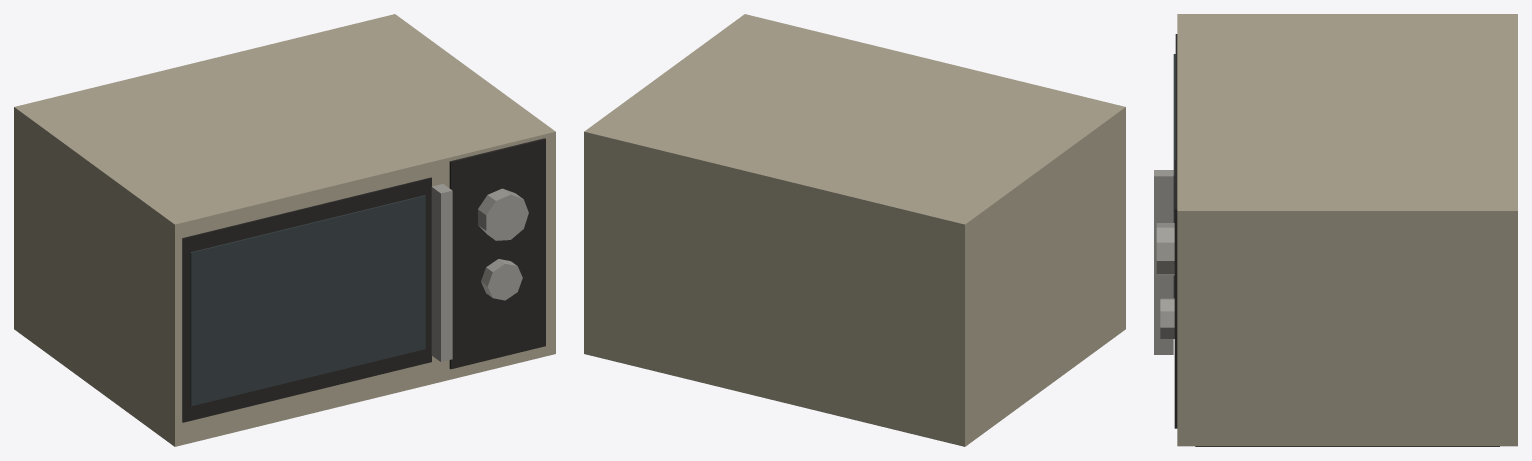
File: microwave.glb
3 renders of one model, left to right at view 1: azimuth 30°, elevation 25°; view 2: azimuth 150°, elevation 25°; view 3: azimuth 270°, elevation 25°, orthographic. The views are drawn at different scales.
Parts seen in each view (by area): view 1: plastic-light, glass, plastic-dark, brushed; view 2: plastic-light; view 3: plastic-light, brushed, plastic-dark, glass.
Part boxes in pixels (x1,y1,x2,y2): plastic-light: (14, 14, 555, 446); glass: (190, 195, 425, 406); plastic-dark: (182, 138, 545, 422); brushed: (431, 184, 528, 361); plastic-light: (584, 14, 1125, 446); plastic-light: (1177, 14, 1517, 446); brushed: (1154, 170, 1174, 354); plastic-dark: (1174, 34, 1177, 428); glass: (1173, 54, 1175, 298).
Size of the model in its own units: 0.52 by 0.3 by 0.406.
